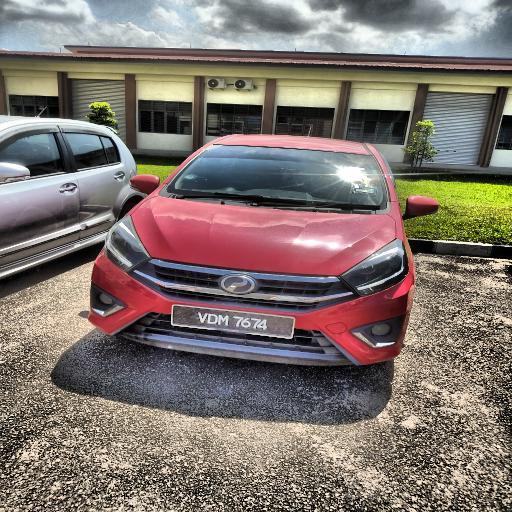license_plate: (173, 304, 295, 341)
